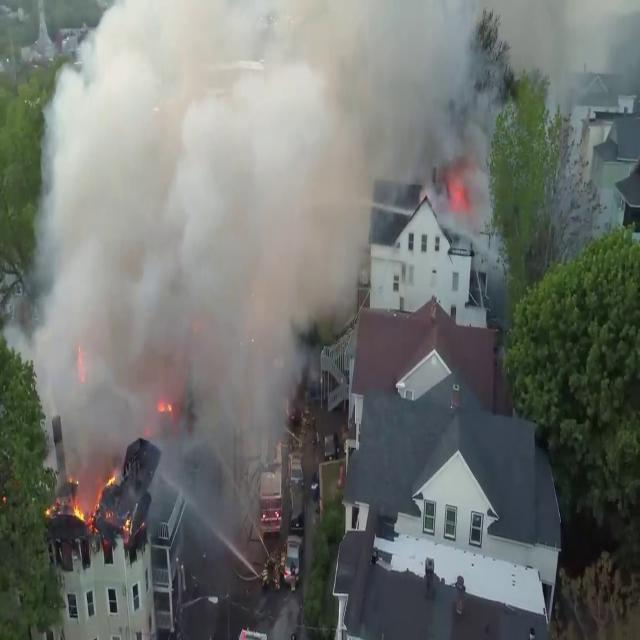Smoke: (19, 0, 347, 500), (316, 0, 514, 283)
